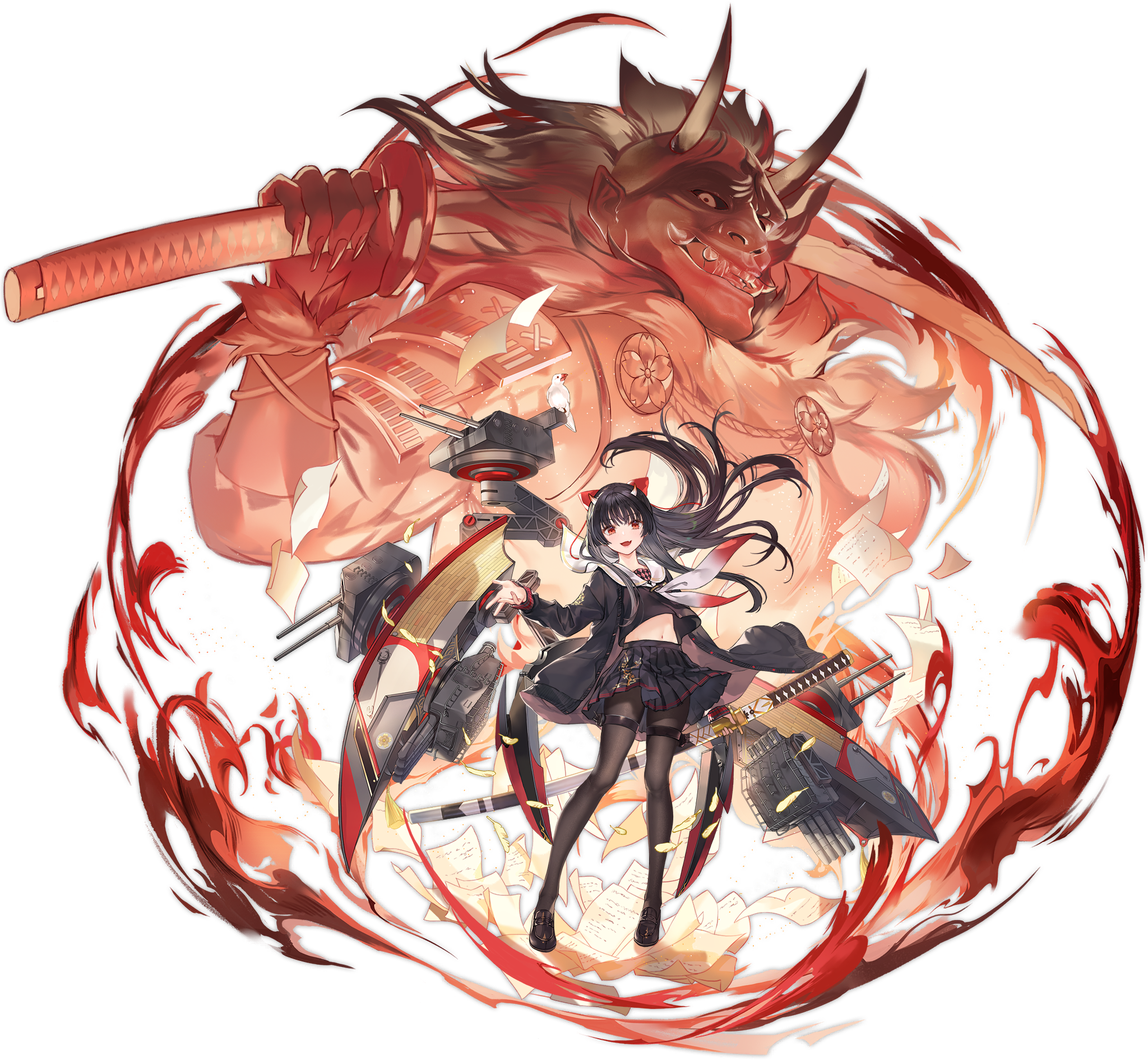person: (487, 421, 803, 979)
